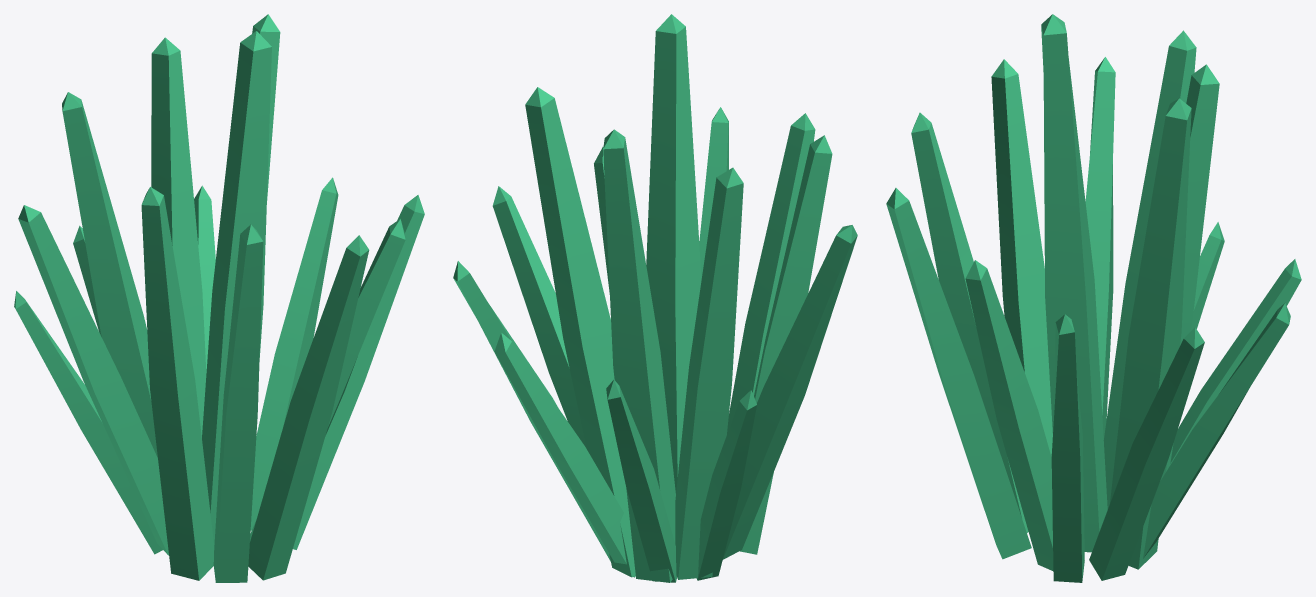
Rendered from coral_diamonds_A_medium.fbx.
The picture shows the model from 3 angles, left to right: view 1: azimuth 30°, elevation 25°; view 2: azimuth 150°, elevation 25°; view 3: azimuth 270°, elevation 25°; orthographic projection. The views are drawn at different scales.
Parts seen in each view (by area): view 1: coral_diamonds_A_medium; view 2: coral_diamonds_A_medium; view 3: coral_diamonds_A_medium.
Boxes of the visible parts, x1,y1,x2,y2 form: coral_diamonds_A_medium: (14, 14, 424, 582); coral_diamonds_A_medium: (453, 14, 857, 582); coral_diamonds_A_medium: (886, 14, 1301, 582).
Size of the model in its own units: 59.12 by 79.04 by 54.15.
